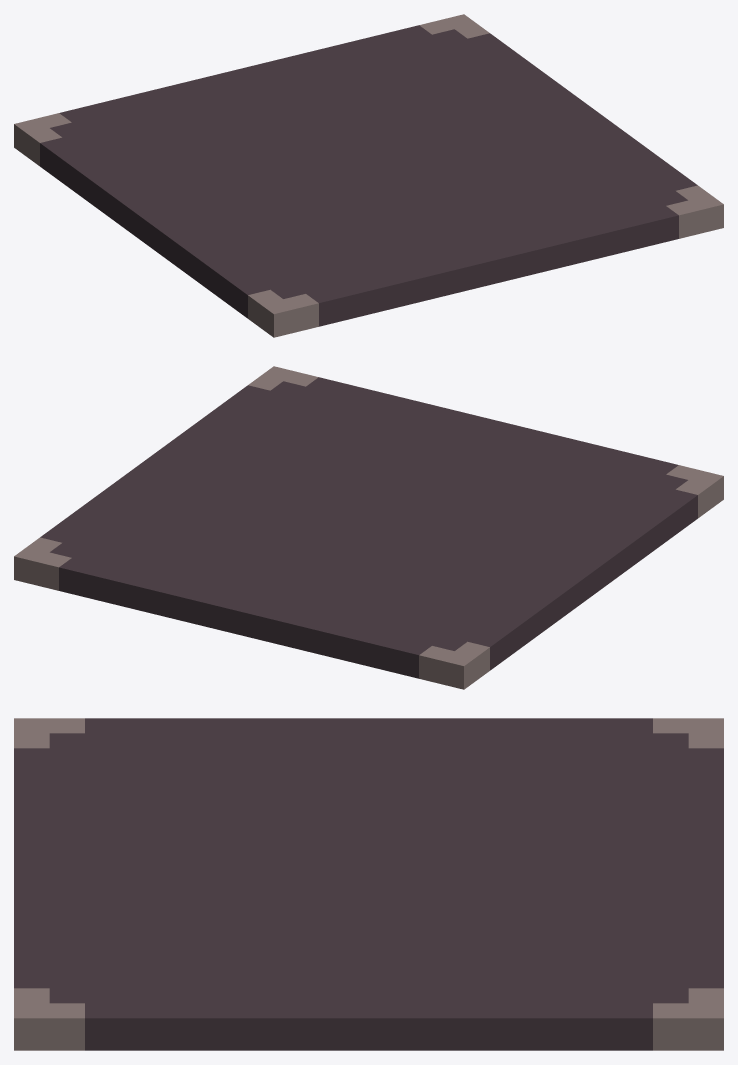
File: caja 2 partida-6.obj
The picture shows the model from 3 angles, top to bottom: view 1: azimuth 30°, elevation 25°; view 2: azimuth 150°, elevation 25°; view 3: azimuth 270°, elevation 25°; orthographic projection. The views are drawn at different scales.
Bounding box in the file's own units: 2 × 0.1 × 2.
Materials: 1 (1 with a texture image).
